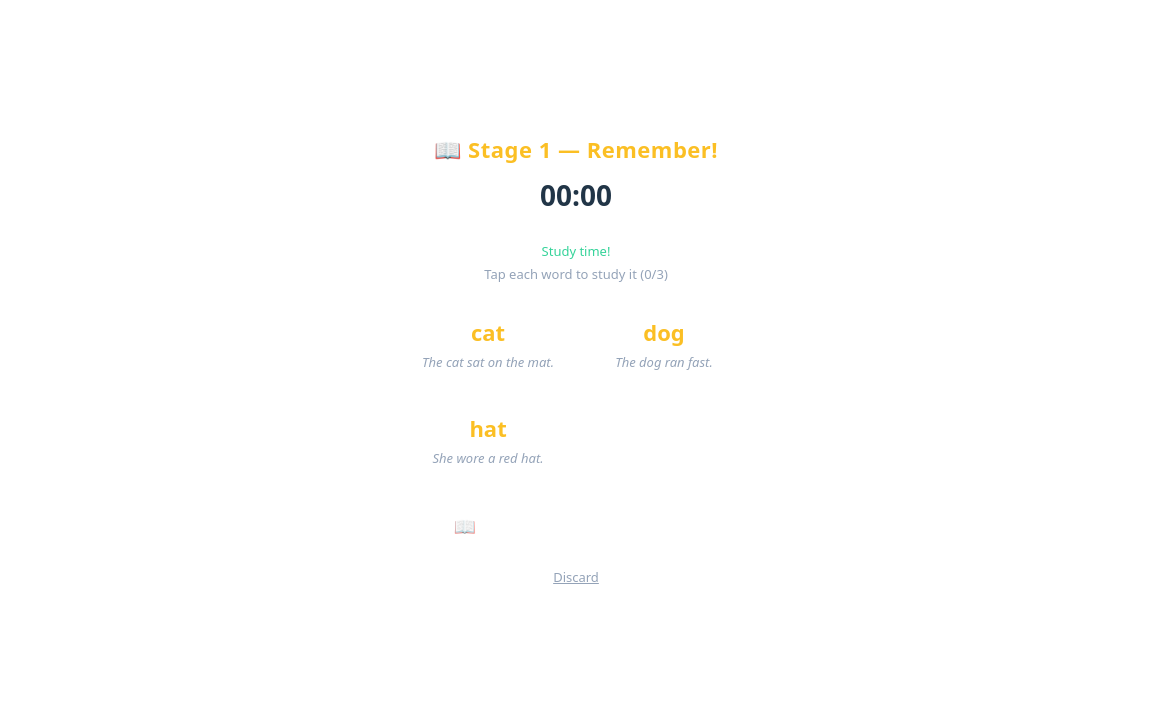
Scenario: Stage1Screen word-click validation › keeps card open after countdown finishes, marks word as read
Click the text "cat". click: (488, 344)
box: x1=405 y1=300 x2=571 y2=387
Wait 3000 ms
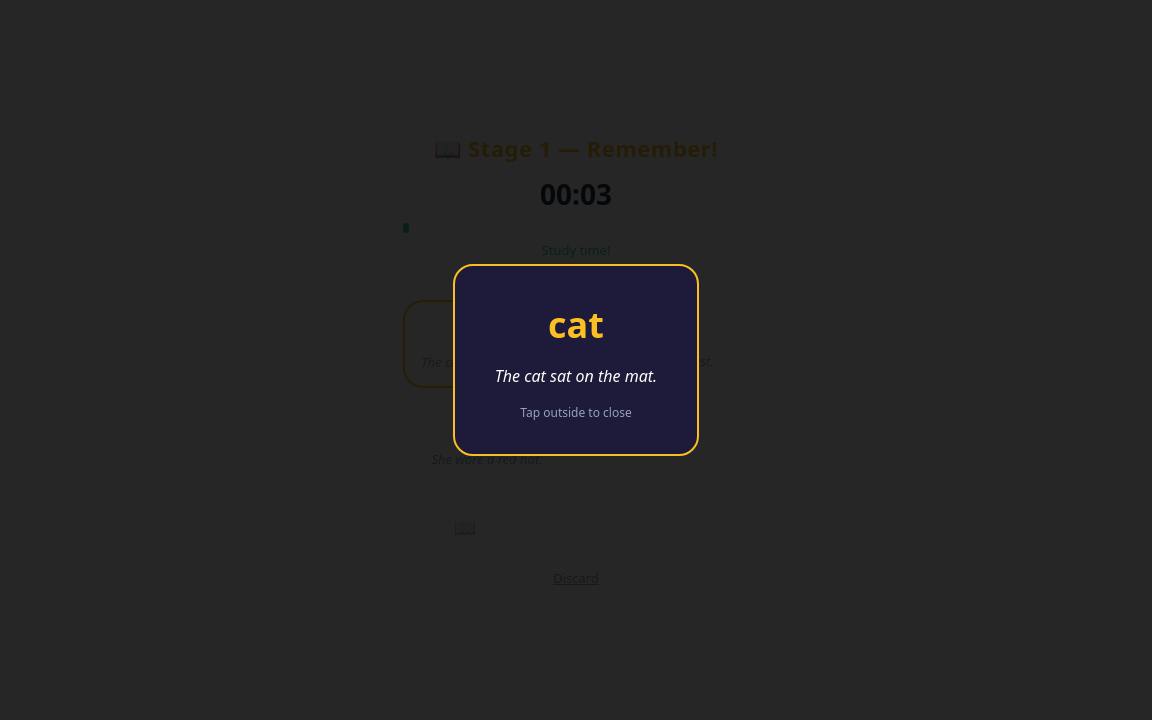
Expected: the element with test id "floating-overlay" is shown
Expected: the text "Tap outside to close" is shown, x1=520 y1=404 x2=632 y2=421
